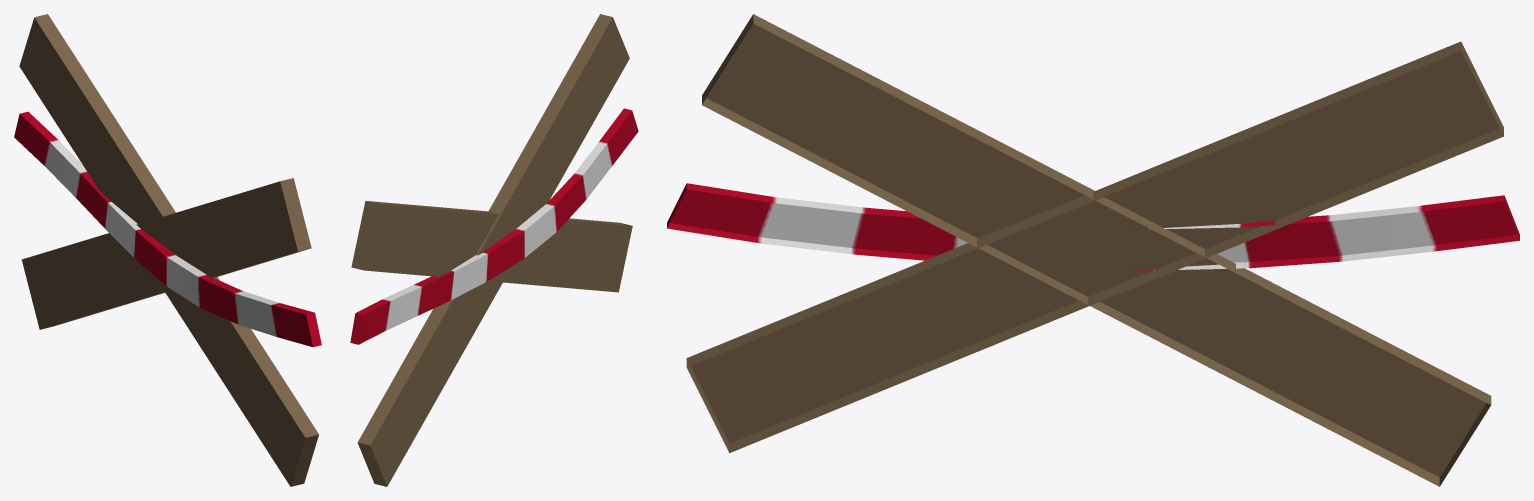
Rendered from blokade.fbx.
3 views of the same model, side by side, from view 1: azimuth 30°, elevation 25°; view 2: azimuth 150°, elevation 25°; view 3: azimuth 270°, elevation 25° (orthographic). The views are drawn at different scales.
Parts seen in each view (by area): view 1: Cube; view 2: Cube; view 3: Cube.
Boxes of the visible parts, x1,y1,x2,y2 form: Cube: (14,14,321,486); Cube: (350,14,638,486); Cube: (667,14,1519,486).
Size of the model in its own units: 19.68 by 390 by 234.
